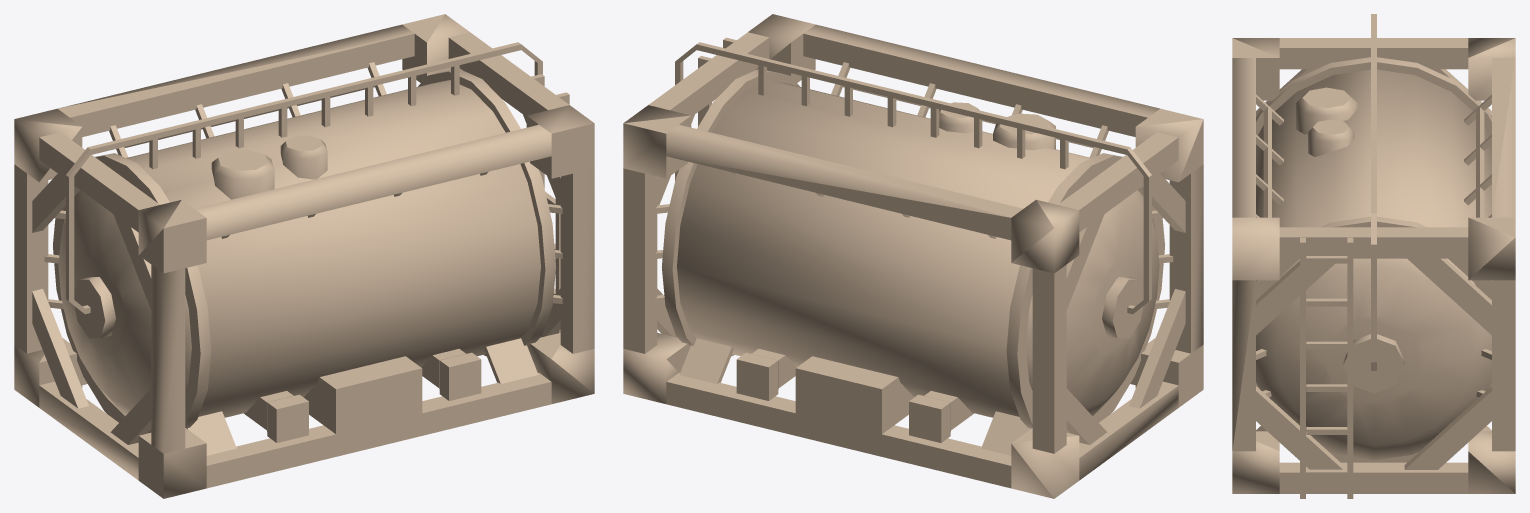
File: fluid_tank.obj
3 views of the same model, side by side, from view 1: azimuth 30°, elevation 25°; view 2: azimuth 150°, elevation 25°; view 3: azimuth 270°, elevation 25° (orthographic). The views are drawn at different scales.
Visible parts, largest first — view 1: Frame, Tank; view 2: Frame, Tank; view 3: Frame, Tank.
Part boxes in pixels (x1,y1,x2,y2): Frame: (14, 14, 594, 498); Tank: (53, 69, 555, 433); Frame: (623, 14, 1203, 498); Tank: (662, 69, 1164, 433); Frame: (1232, 14, 1515, 498); Tank: (1256, 57, 1491, 462).
Bounding box in the file's own units: 5.5 × 3.28 × 3.
